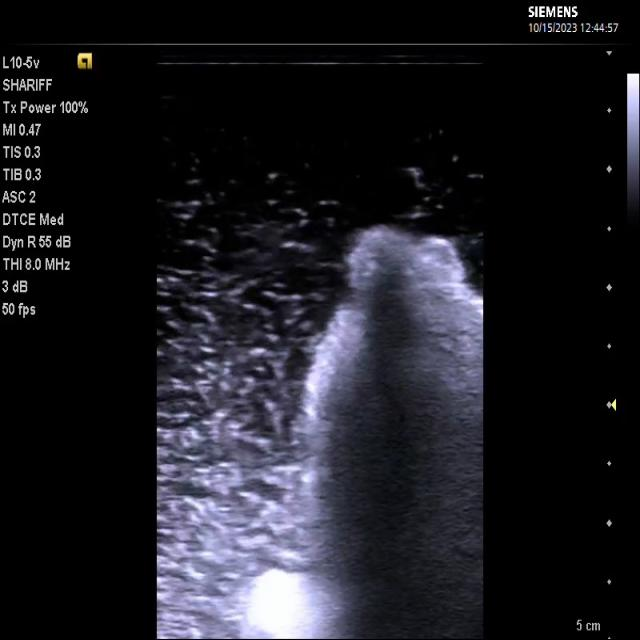tissue: (247, 226, 482, 640)
